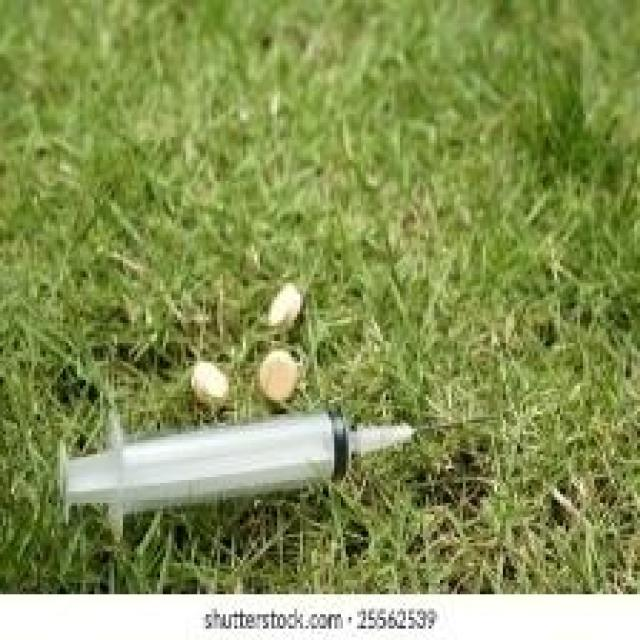syringe: (39, 401, 515, 537)
